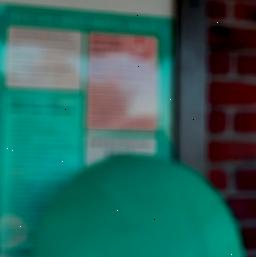algae: (38, 152, 244, 257)
